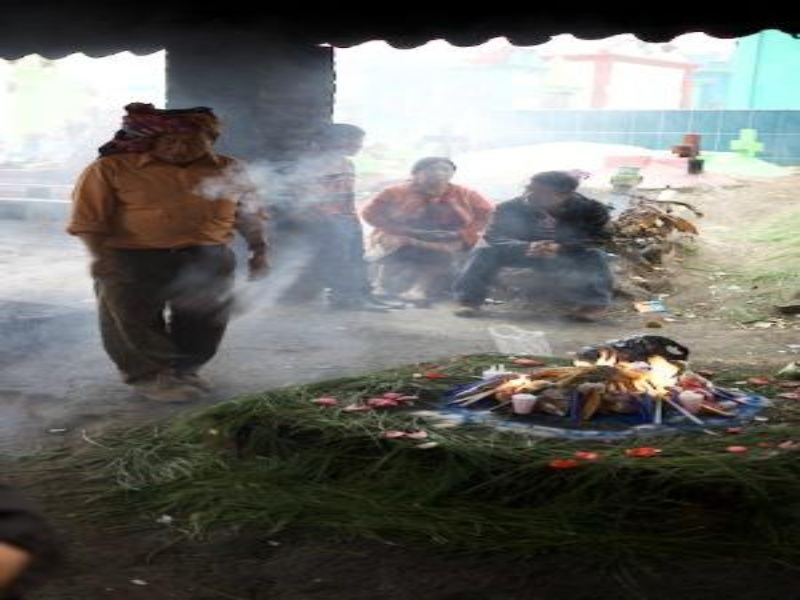smoke: (199, 154, 362, 365)
